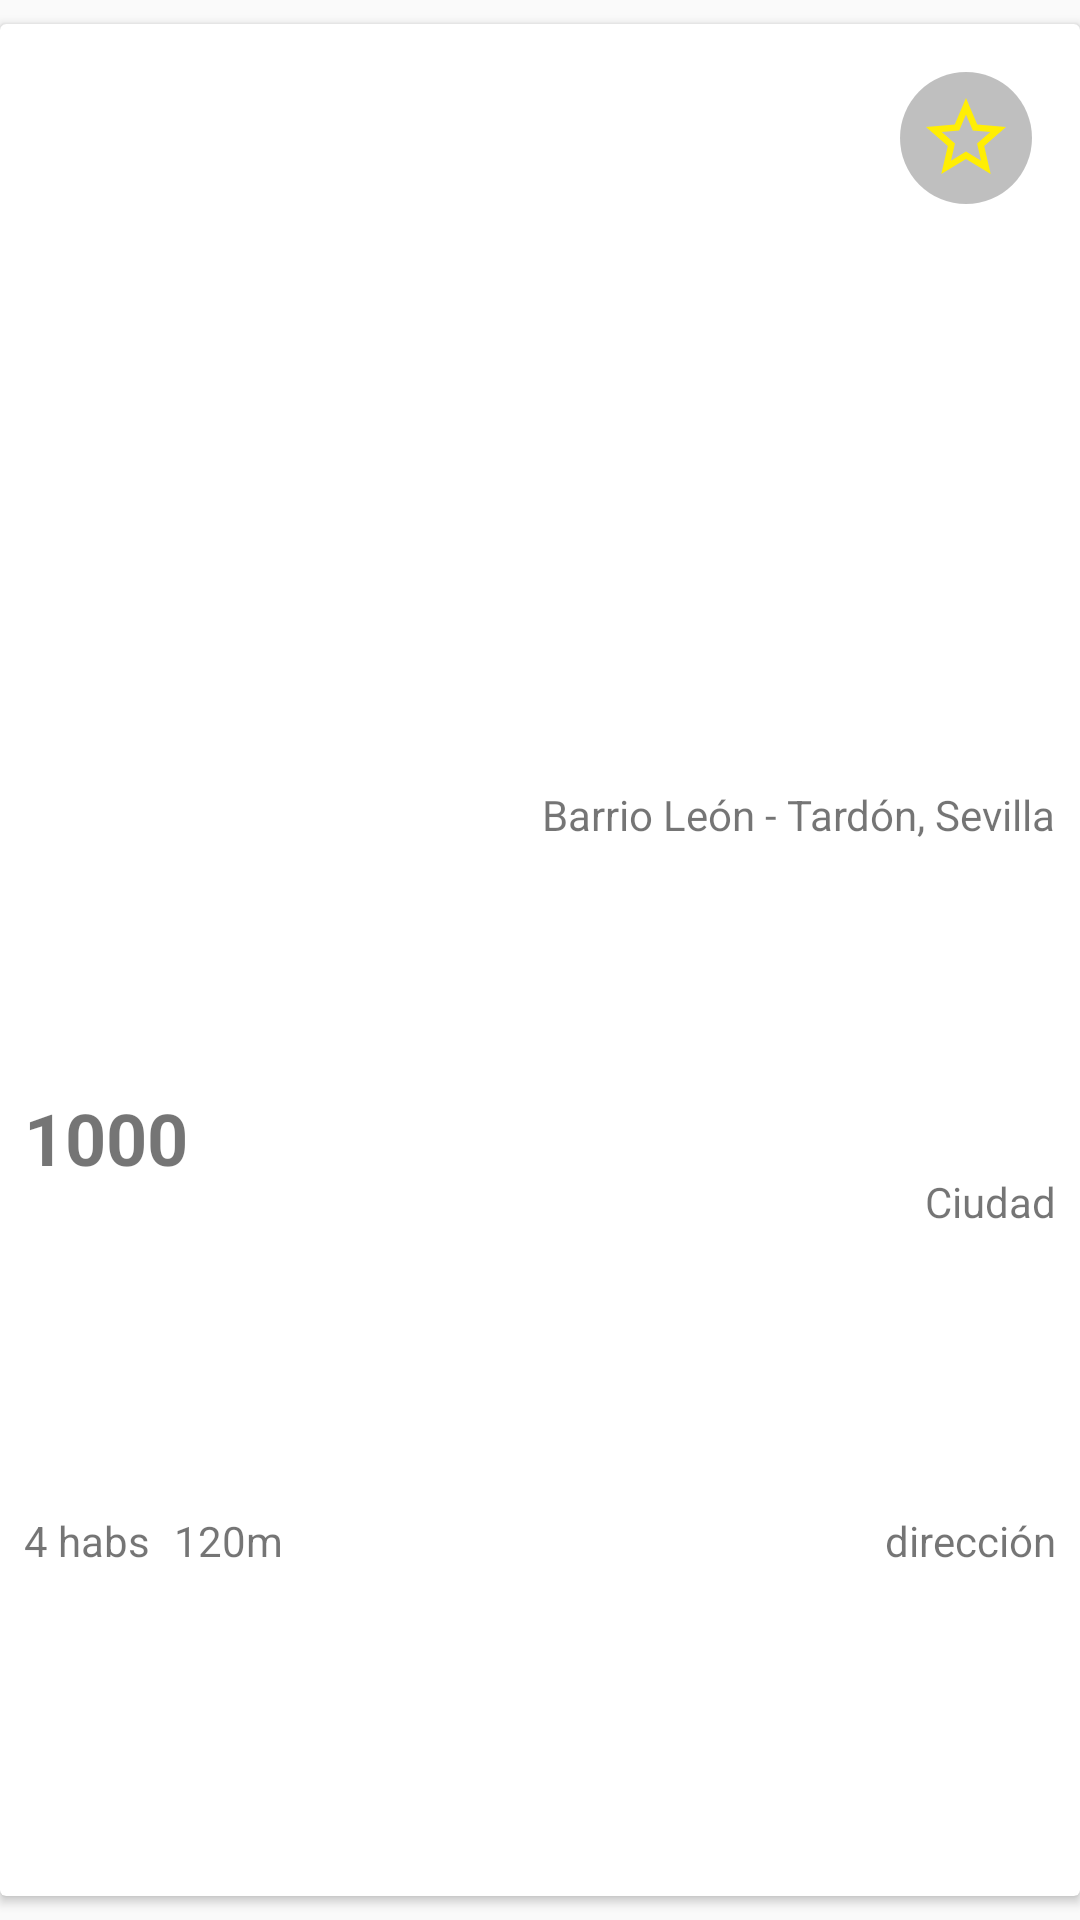

Locate icon controls on the screen. Image size 1080w x 1920h, boxes as (x1, y1, x2, y2).
star border: (900, 72, 1032, 204)
